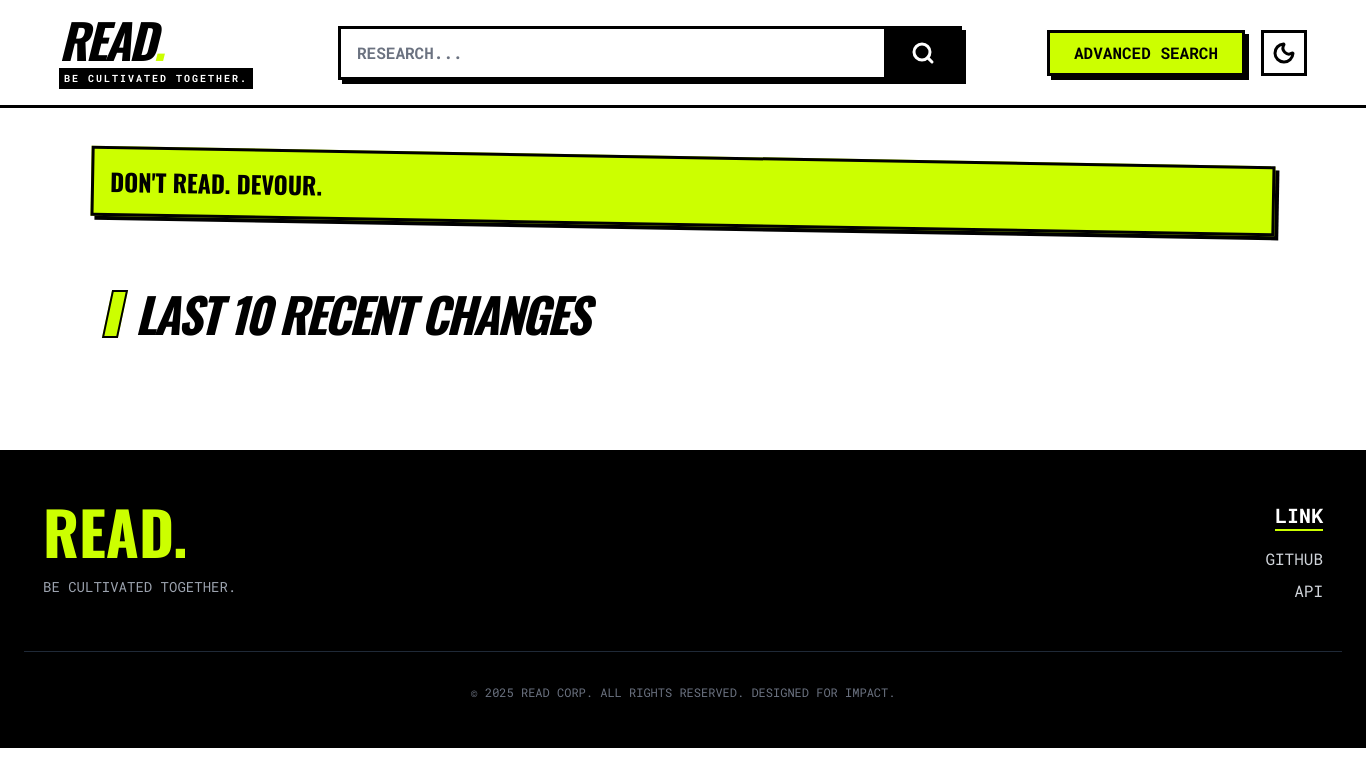
Scenario: Module de Recherche Avancée › UI : Ouverture, fermeture et persistance du formulaire
The image size is (1366, 768).
Expected: the text "Title" is not shown
Ouvrir (Avec la sécurité :visible pour éviter les erreurs futures)
Click the button "Advanced Search": (1146, 53) [1047, 30, 1245, 76]
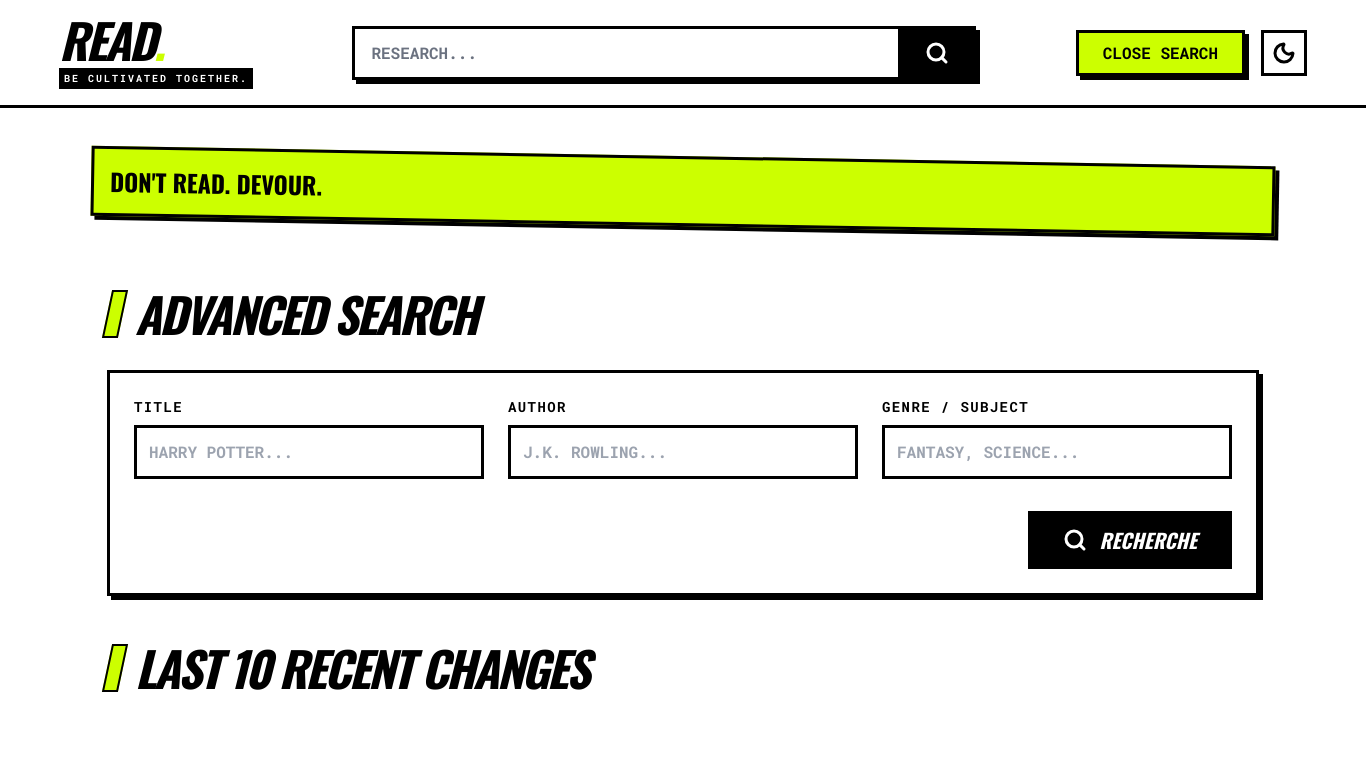
Result: the text "Title" is shown at [134, 397, 183, 416]
Result: the text "Author" is shown at [508, 397, 567, 416]
Result: the field with placeholder "Harry Potter..." is shown
Interaction formulaire
In the field with placeholder "Harry Potter...": (309, 452) [134, 425, 484, 479], type "Le Petit Prince"
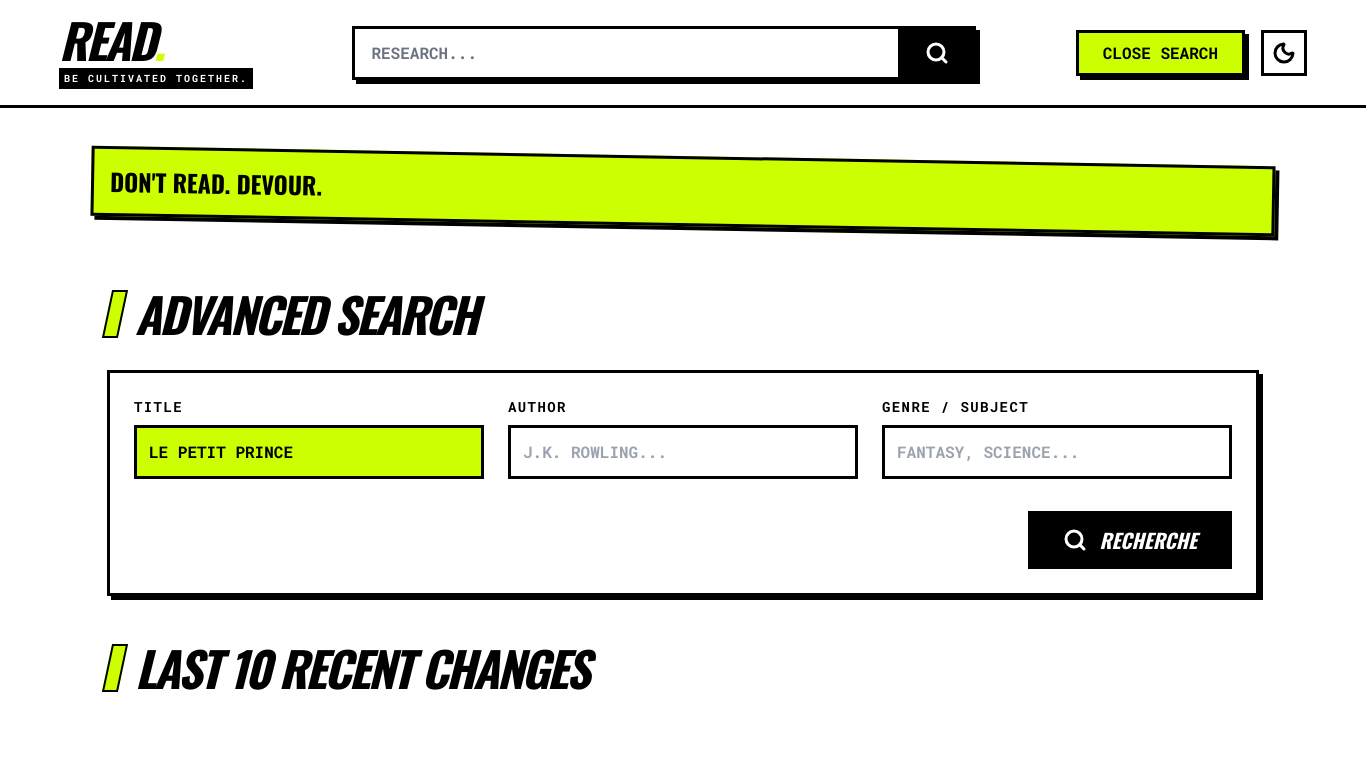
Click the button "Close Search": (1161, 53) [1076, 30, 1245, 76]
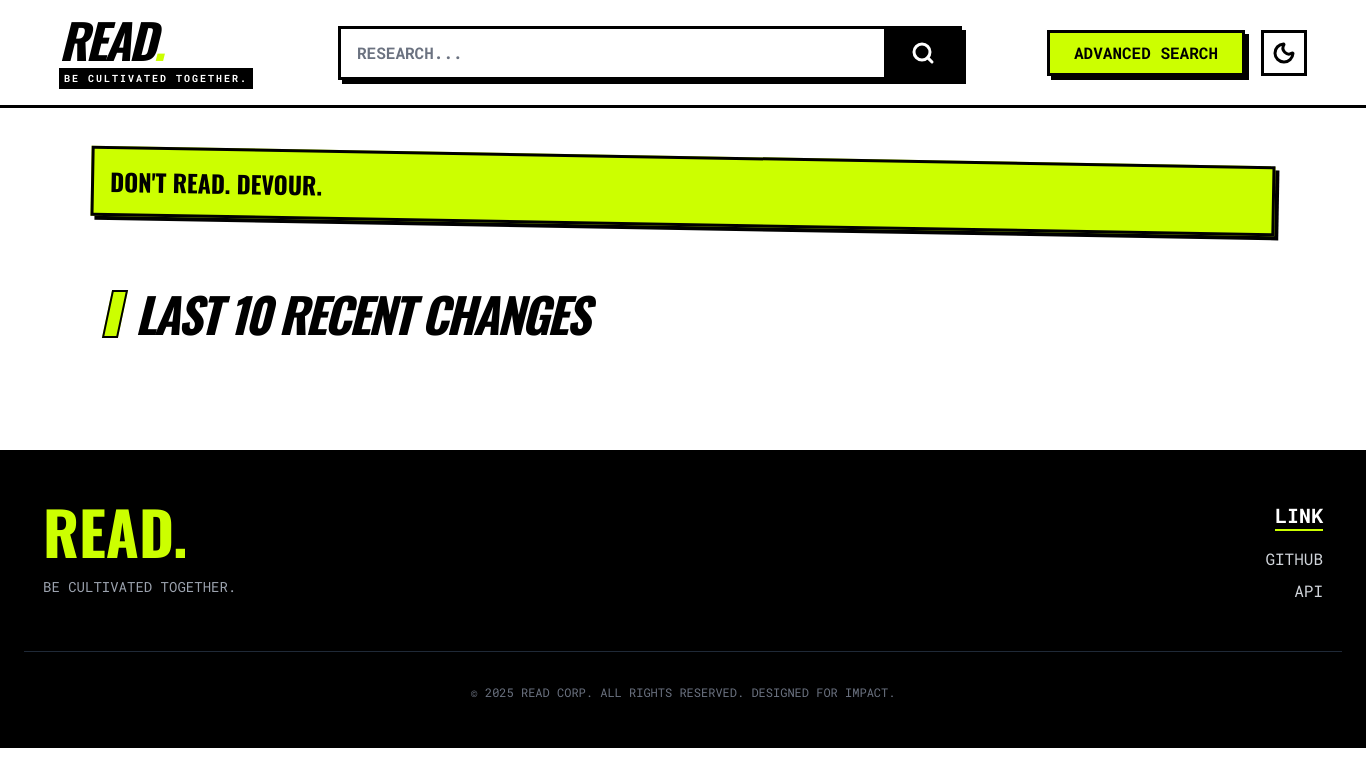
Result: the text "Title" is gone
